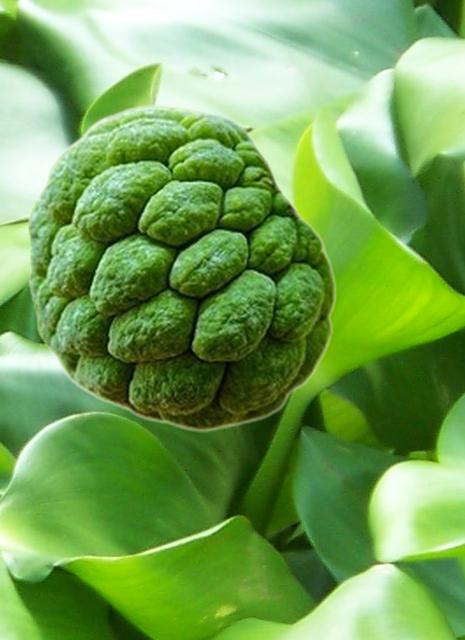atis: (27, 103, 336, 431)
